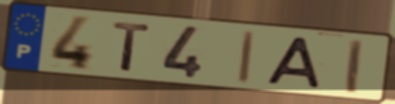4: (48, 15, 97, 72), (160, 24, 208, 81)
A: (263, 34, 325, 91)
I: (235, 29, 257, 86), (345, 37, 365, 96)
T: (110, 20, 154, 74)
